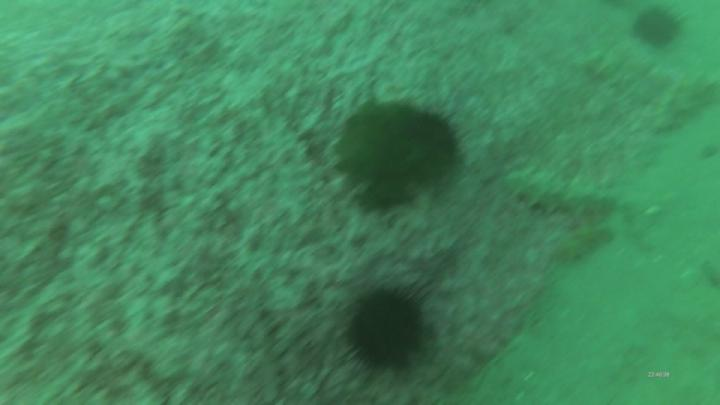echinus: (332, 98, 463, 197), (338, 286, 436, 382), (629, 5, 688, 52)
holothurian: (502, 162, 626, 223), (649, 69, 720, 140), (575, 48, 658, 107), (546, 222, 615, 269)
